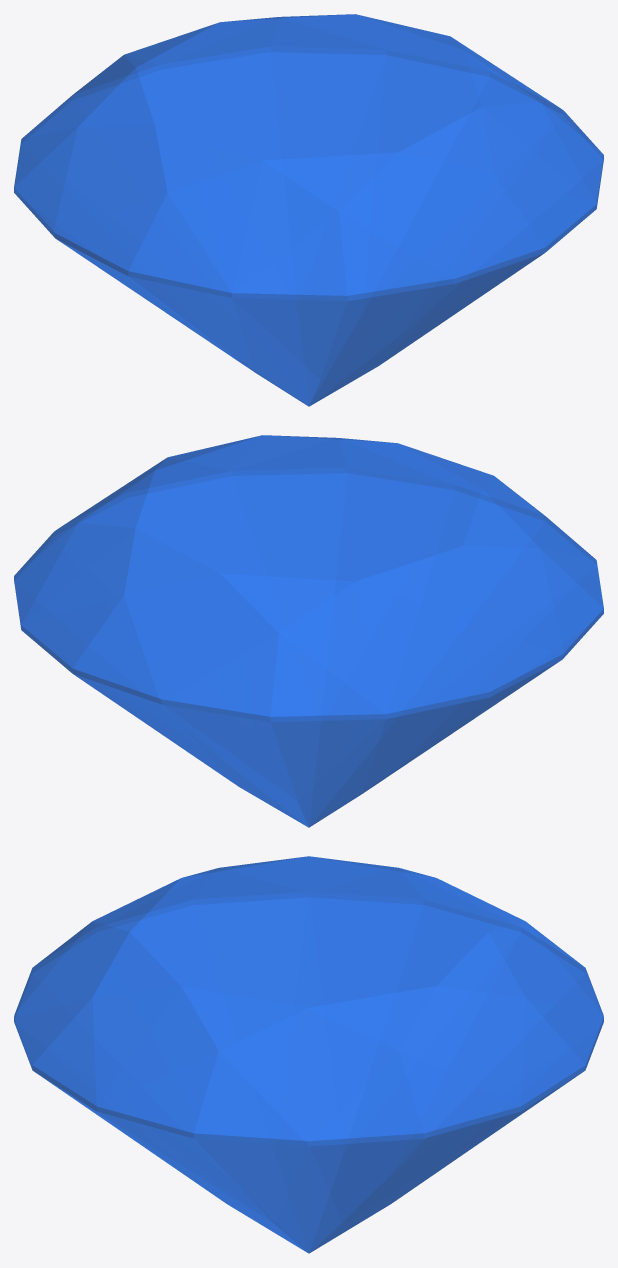
The model's file is round lazulli.glb.
3 renders of one model, top to bottom at view 1: azimuth 30°, elevation 25°; view 2: azimuth 150°, elevation 25°; view 3: azimuth 270°, elevation 25°, orthographic.
Visible parts, largest first — view 1: White_1_11.008; view 2: White_1_11.008; view 3: White_1_11.008.
Part boxes in pixels (x1,y1,x2,y2): White_1_11.008: (14,14,603,406); White_1_11.008: (14,435,603,827); White_1_11.008: (14,856,603,1253).
Bounding box in the file's own units: 1.75 × 1.05 × 1.75.
